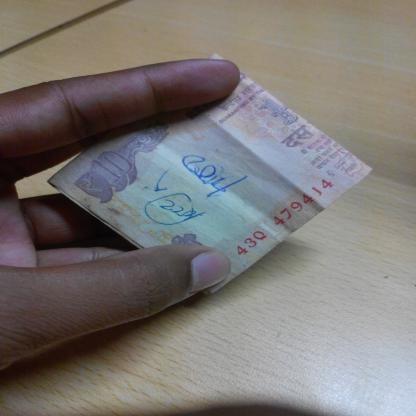Old10Front: (44, 52, 373, 296)
